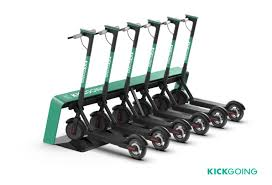kick_body: (89, 130, 127, 146), (193, 96, 225, 106)
kick_handler: (65, 28, 96, 41), (121, 21, 140, 33), (98, 25, 119, 35), (185, 14, 198, 29), (143, 19, 161, 29), (163, 17, 179, 28)
kick_wheel: (128, 135, 147, 159), (172, 119, 190, 143), (209, 105, 227, 129), (152, 127, 168, 151), (65, 119, 84, 139), (227, 100, 244, 122), (193, 112, 208, 136), (90, 112, 109, 129), (112, 106, 129, 123), (153, 96, 168, 110), (136, 99, 151, 112), (175, 91, 188, 104)
